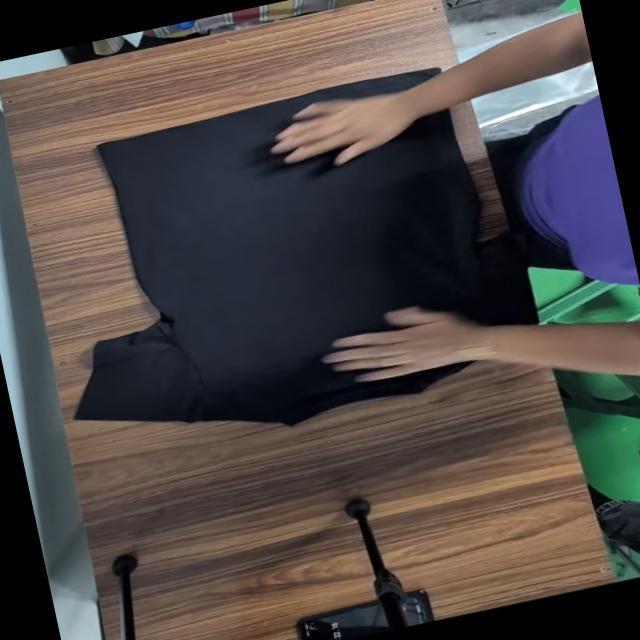new-garment: (74, 69, 534, 425)
